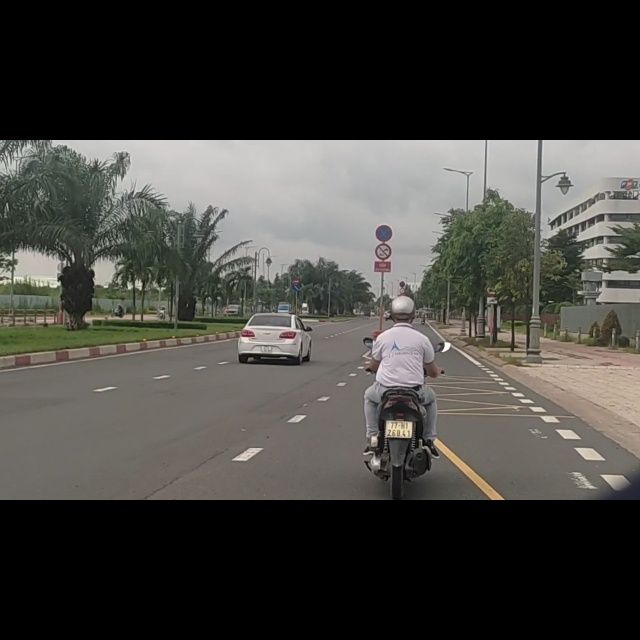bien_hieu_lenh: (374, 146, 393, 181), (374, 184, 392, 215)
